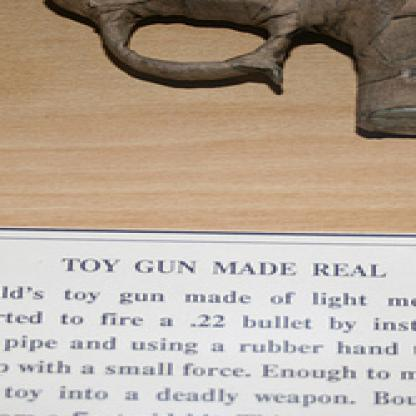gun: (0, 0, 414, 157)
